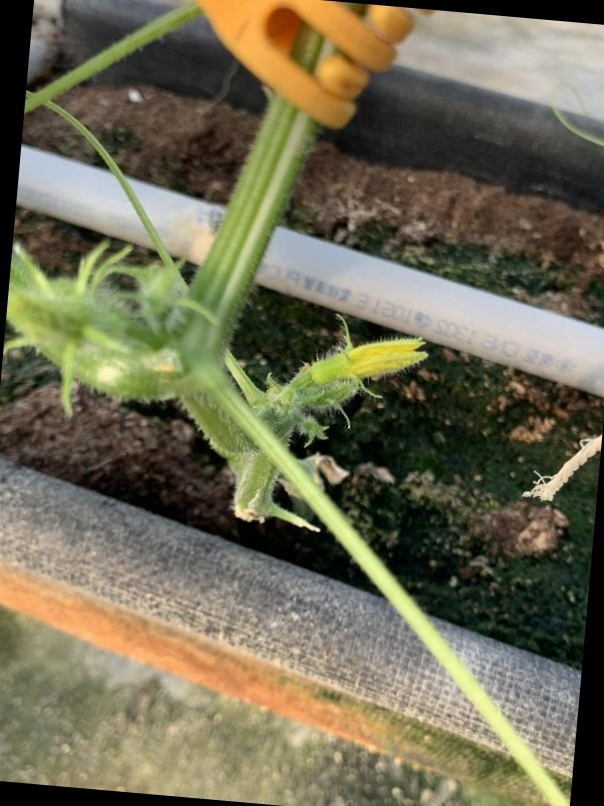bud: (298, 331, 427, 399)
